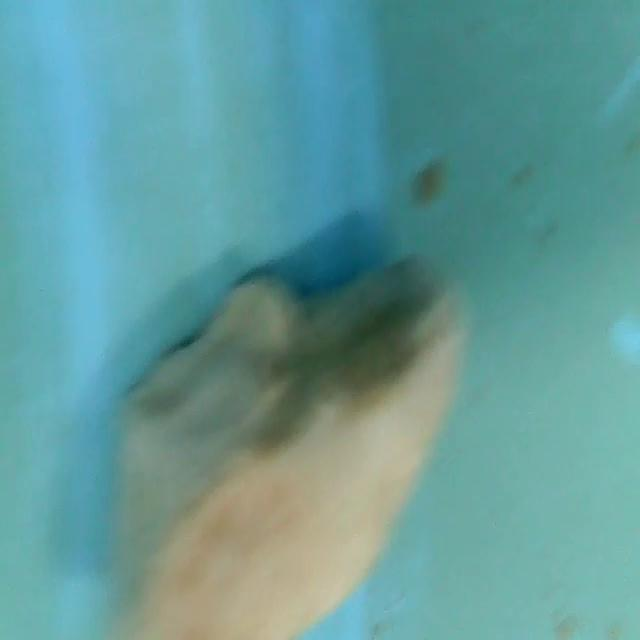rock: (107, 254, 468, 640)
